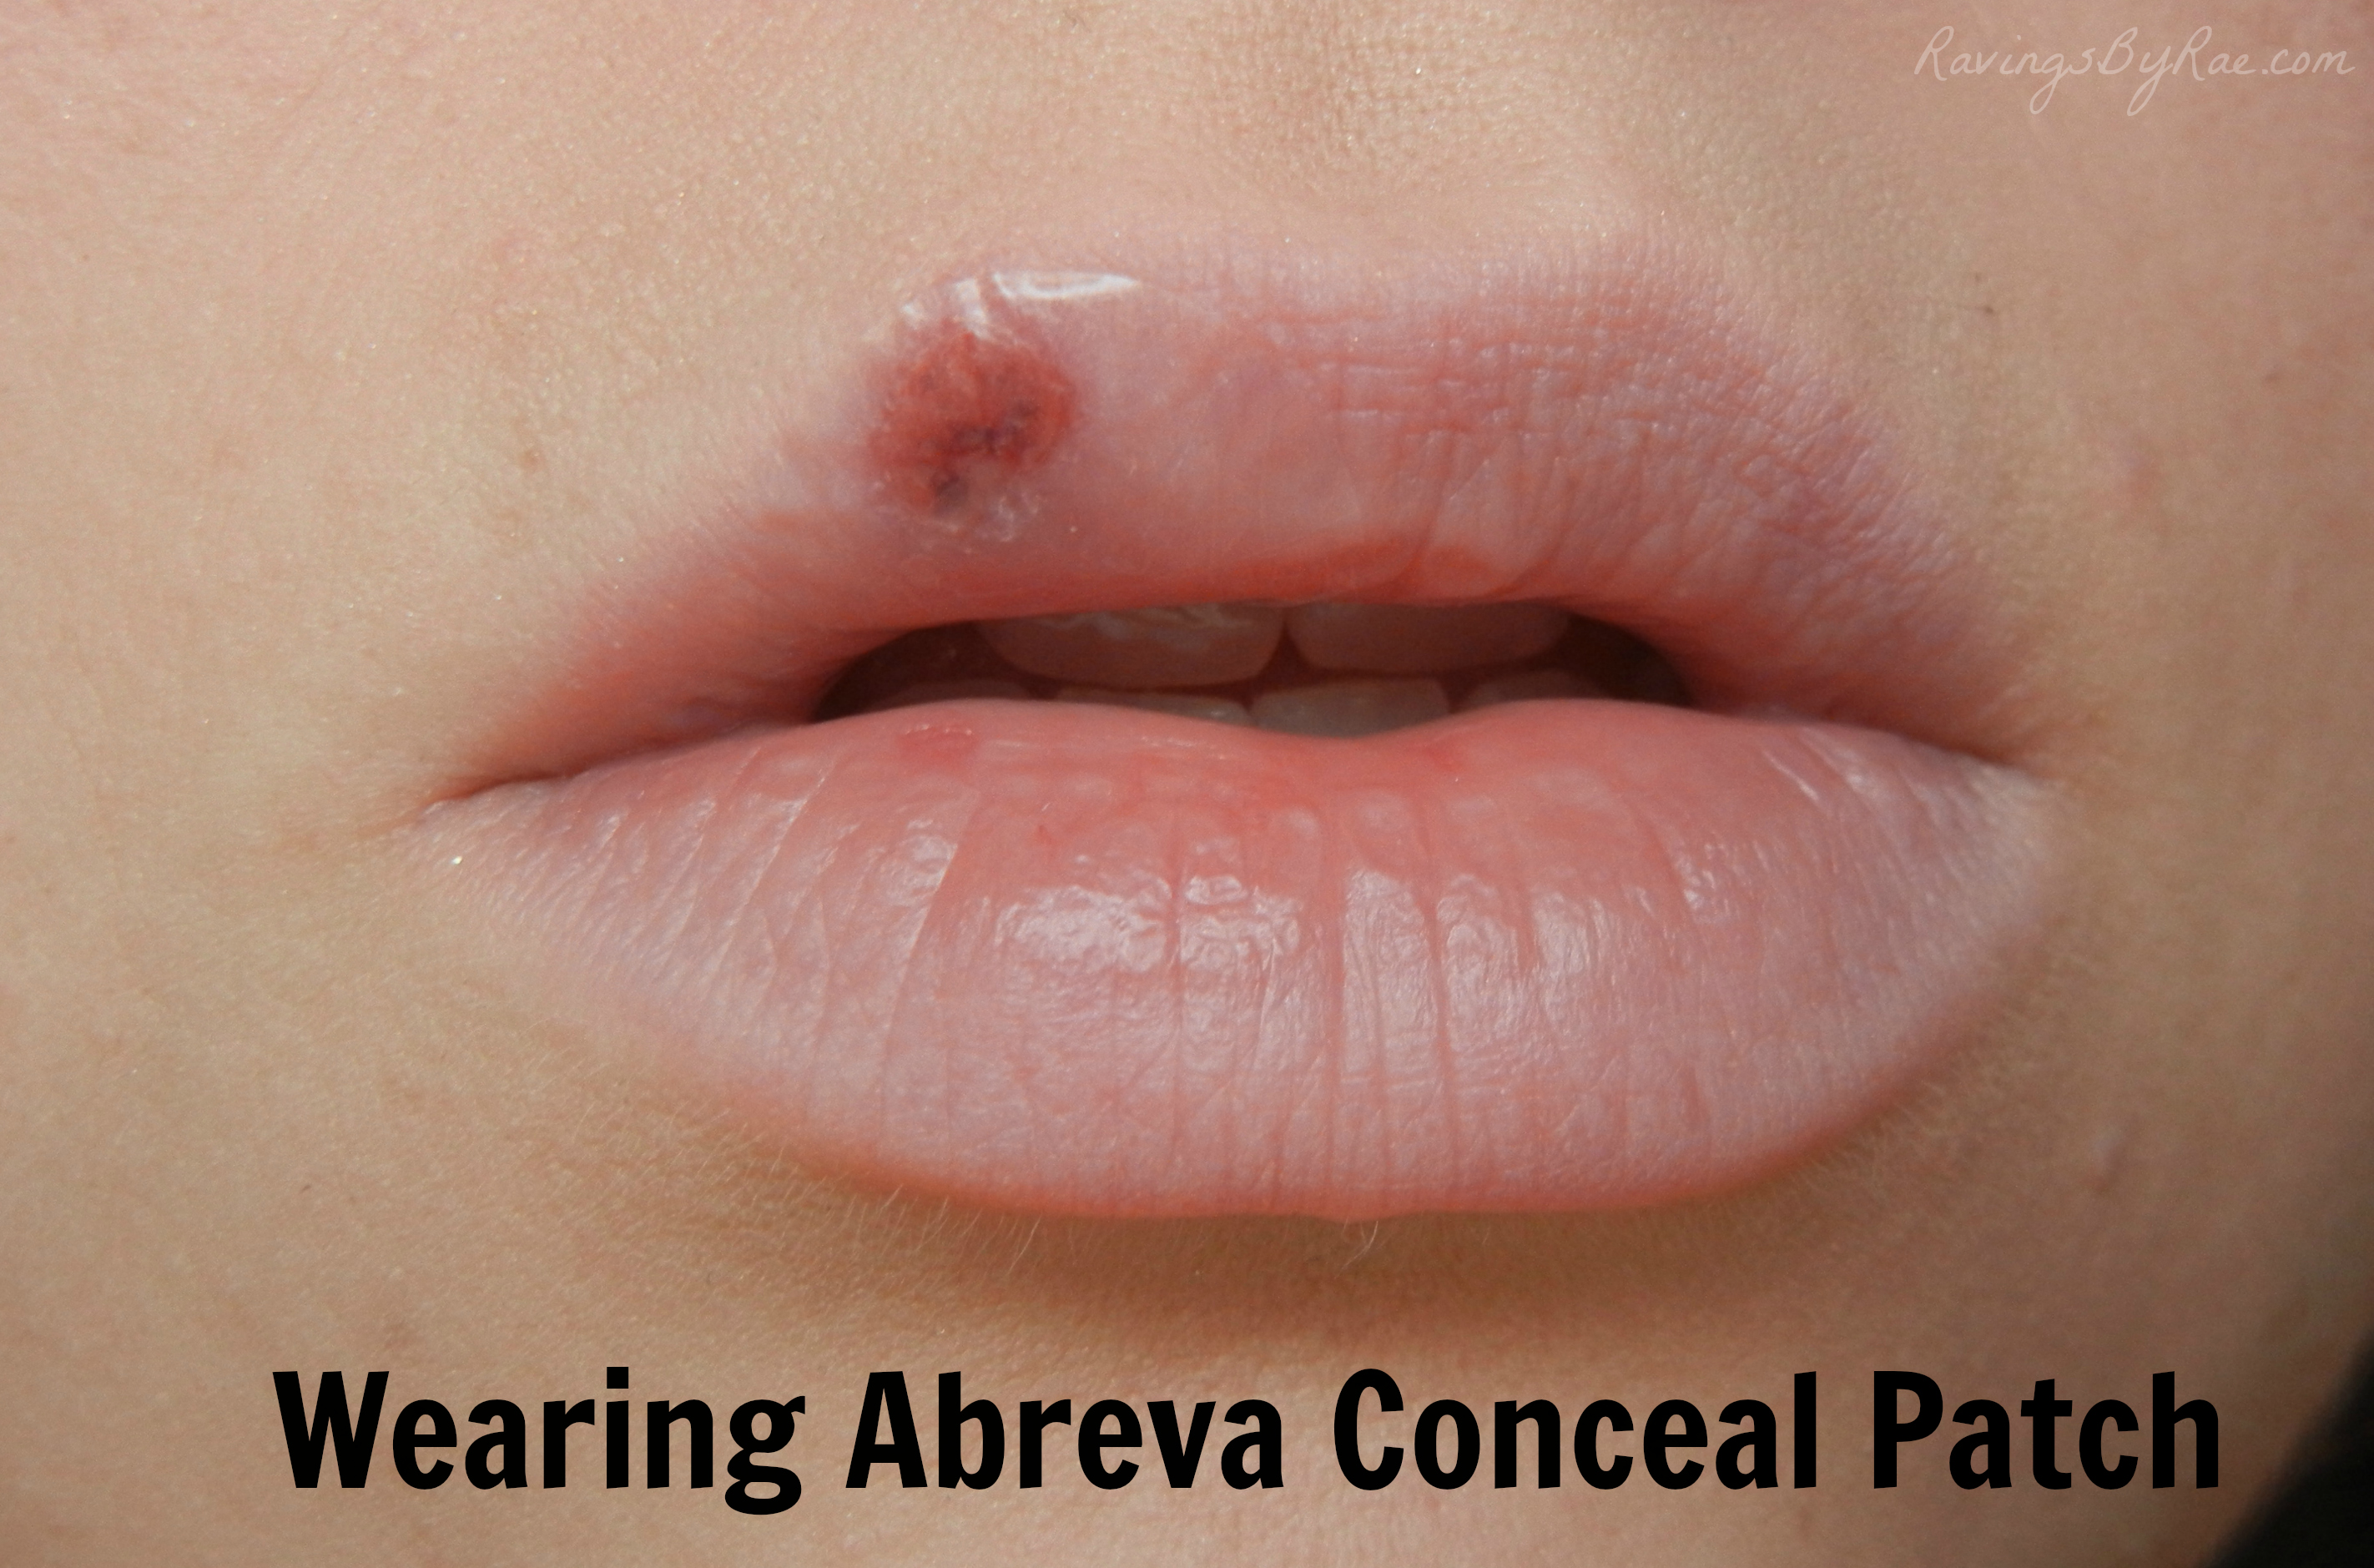Cold Sore: (827, 264, 1107, 527)
